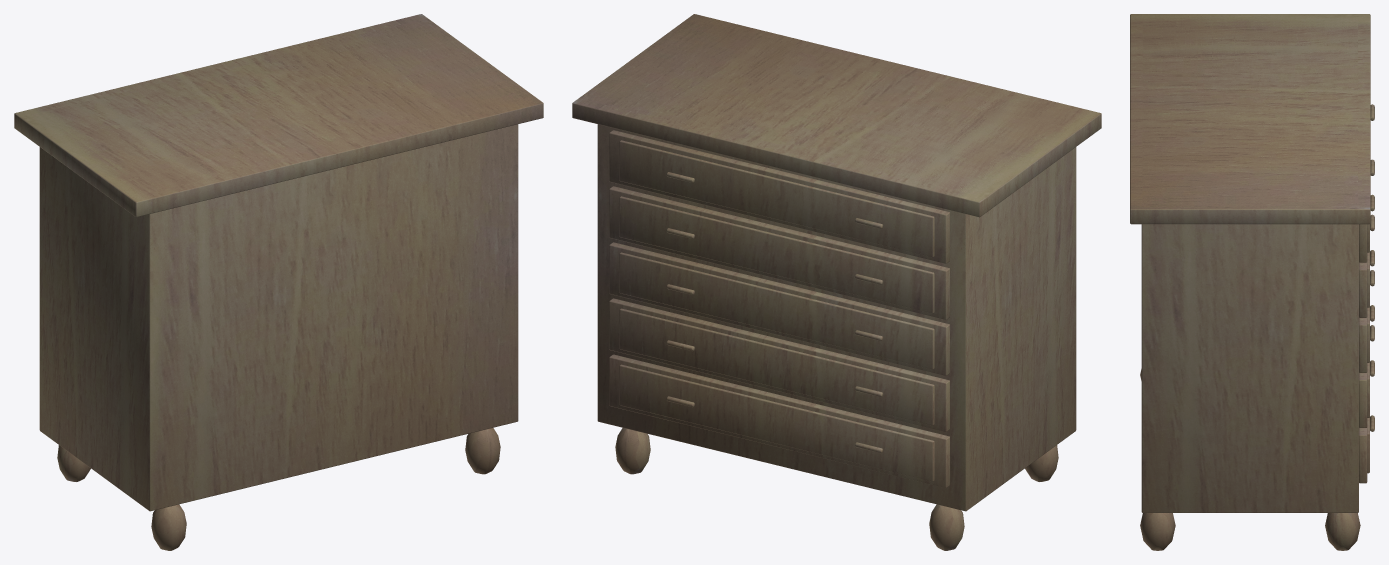
Rendered from Antique_Chest_02.fbx.
3 views of the same model, side by side, from view 1: azimuth 30°, elevation 25°; view 2: azimuth 150°, elevation 25°; view 3: azimuth 270°, elevation 25° (orthographic).
Parts seen in each view (by area): view 1: Antique_Chest; view 2: Antique_Chest; view 3: Antique_Chest.
Part boxes in pixels (<box>): Antique_Chest: <box>14,14,543,550</box>; Antique_Chest: <box>572,14,1101,550</box>; Antique_Chest: <box>1130,14,1374,550</box>.
Size of the model in its own units: 1.38 by 1.2 by 0.7304.
1 material, 1 textured.
